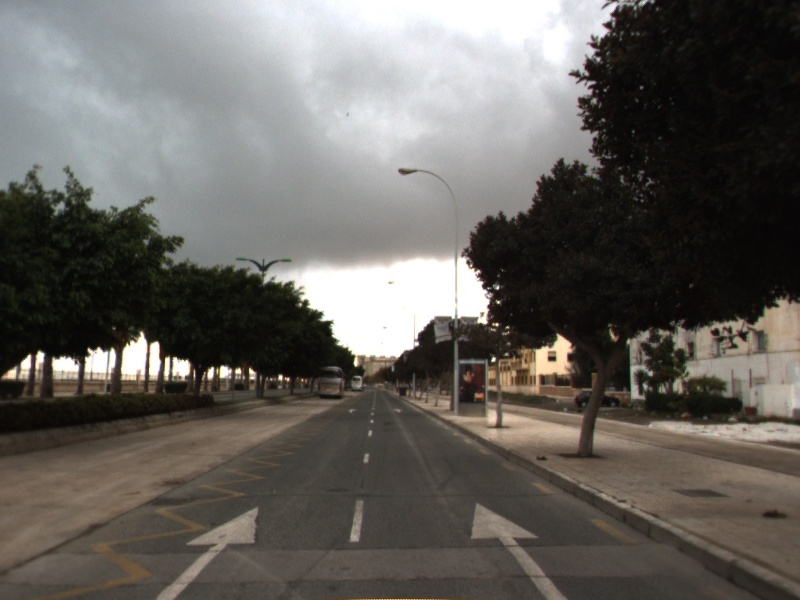STRAIGHT: (151, 501, 262, 600), (468, 498, 573, 600)
